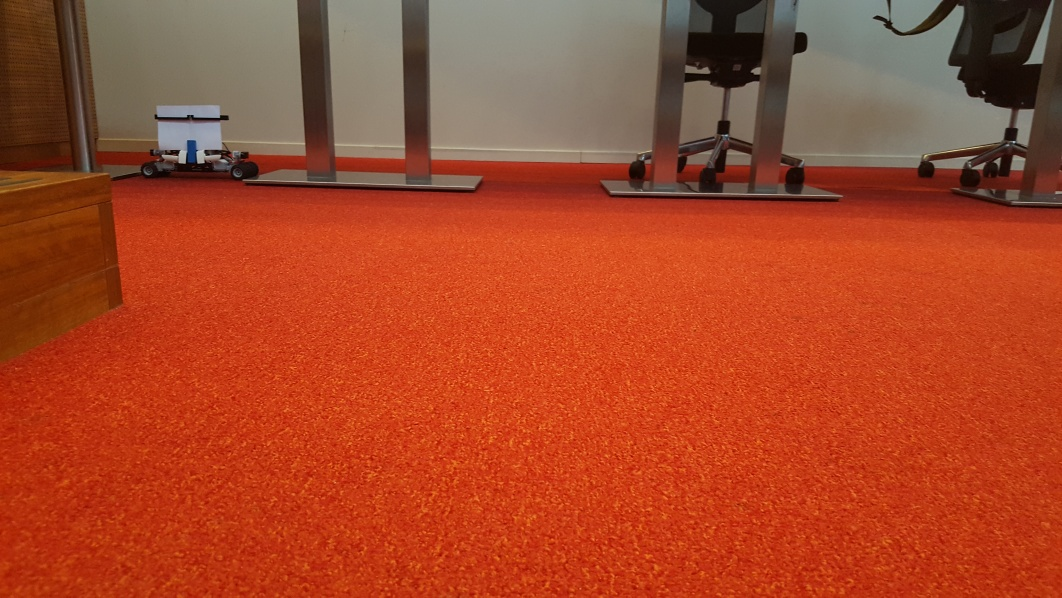car: (140, 105, 260, 184)
